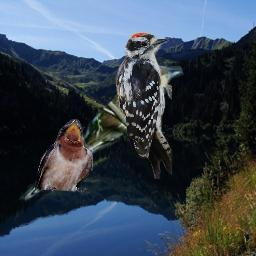Cuckoo: (19, 64, 187, 206)
Swallow: (35, 119, 93, 196)
Woodpecker: (114, 32, 172, 179)
